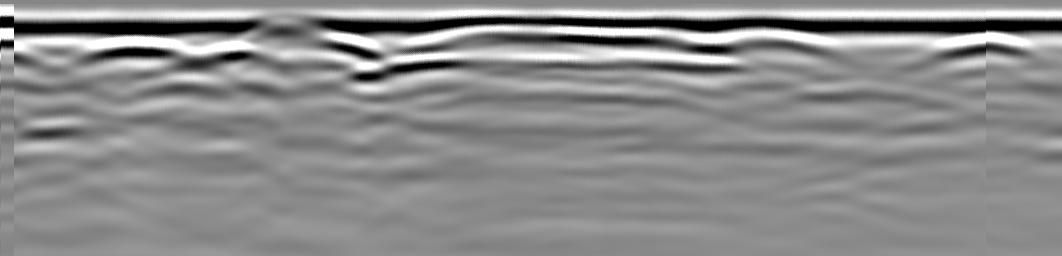pipe: (232, 16, 343, 47)
steel: (79, 37, 185, 75), (938, 35, 1030, 63)
